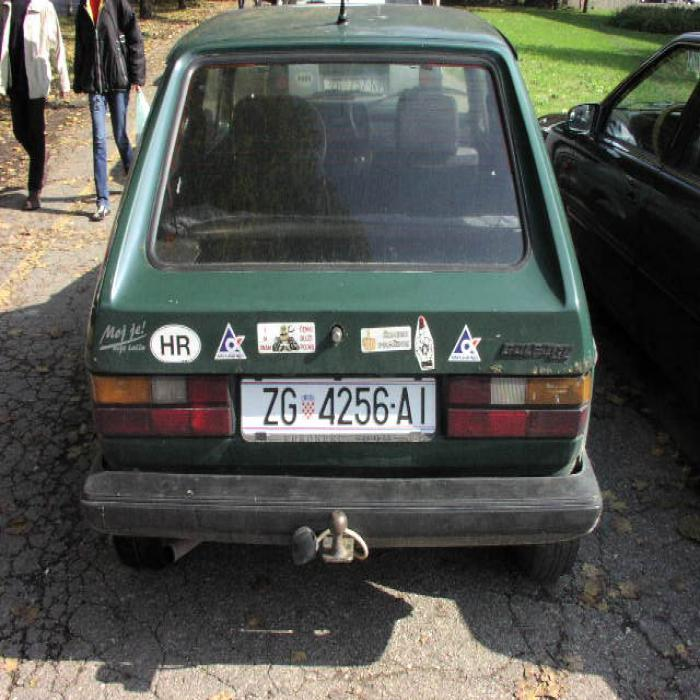number_plate: (241, 378, 435, 430)
